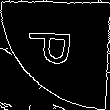P_E: (28, 35, 82, 75)
